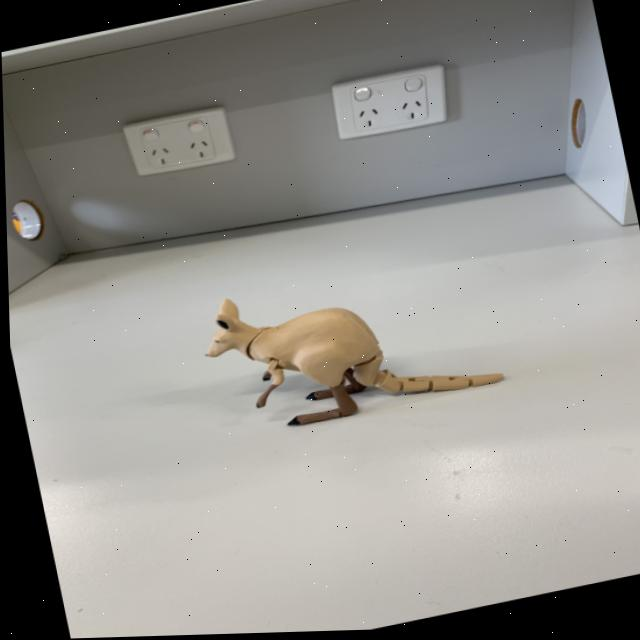kangaroo: (186, 237, 506, 449)
